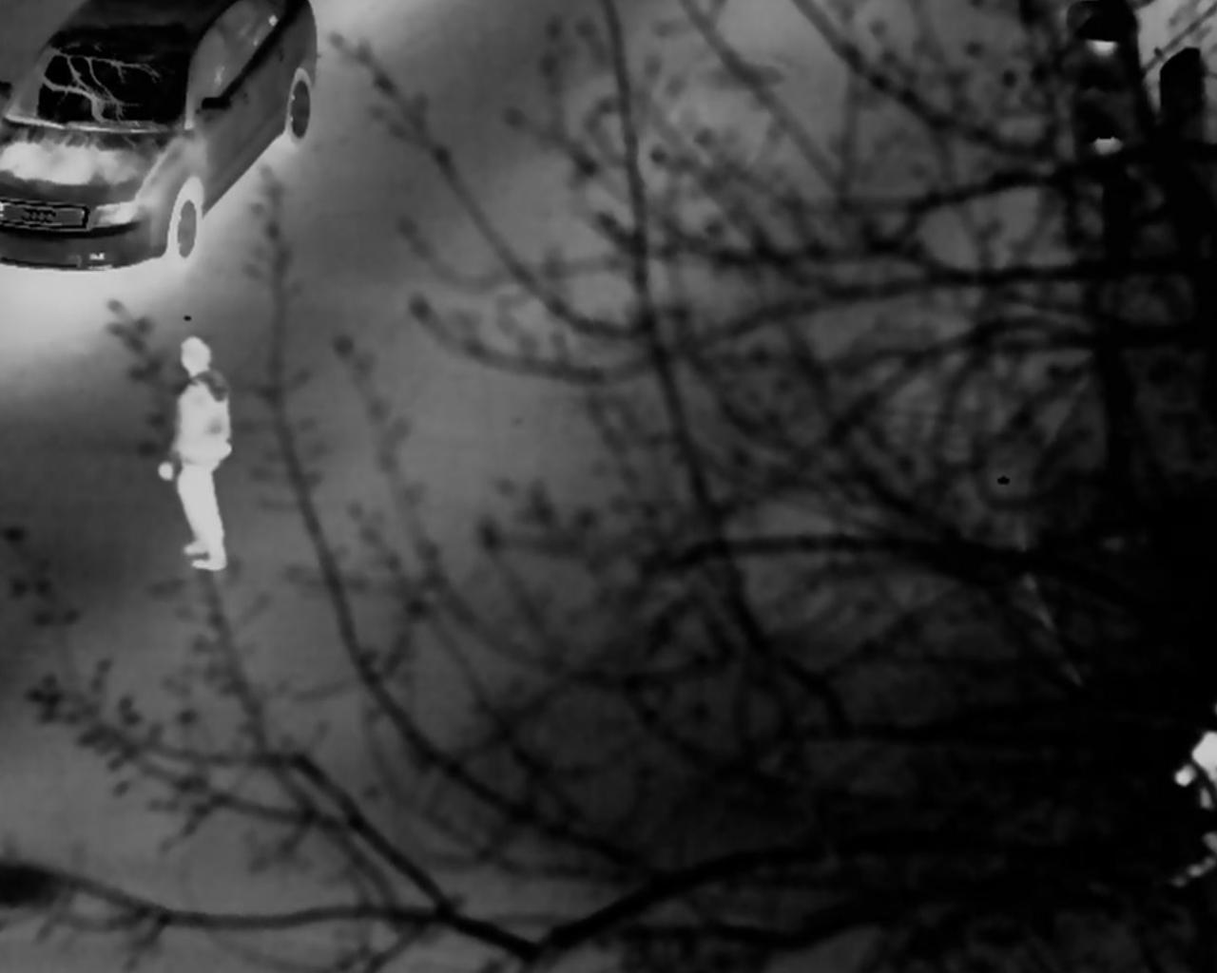person: (157, 336, 241, 572)
